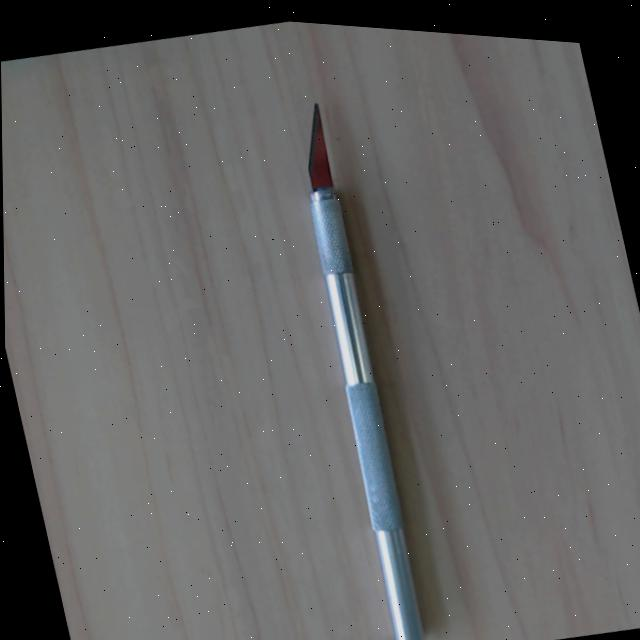Cutter-Kecil: (288, 103, 425, 640)
